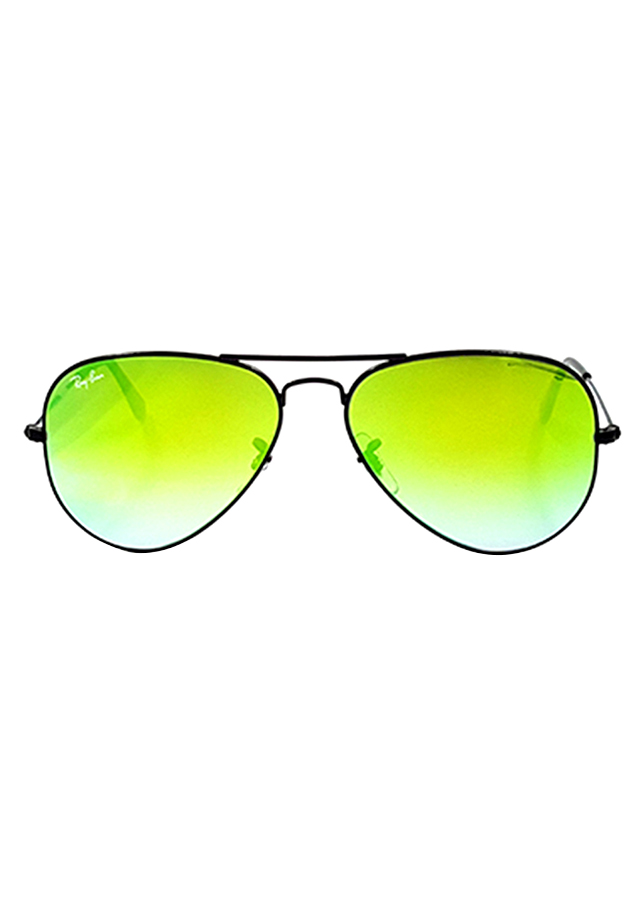Rayban: (61, 366, 112, 397)
